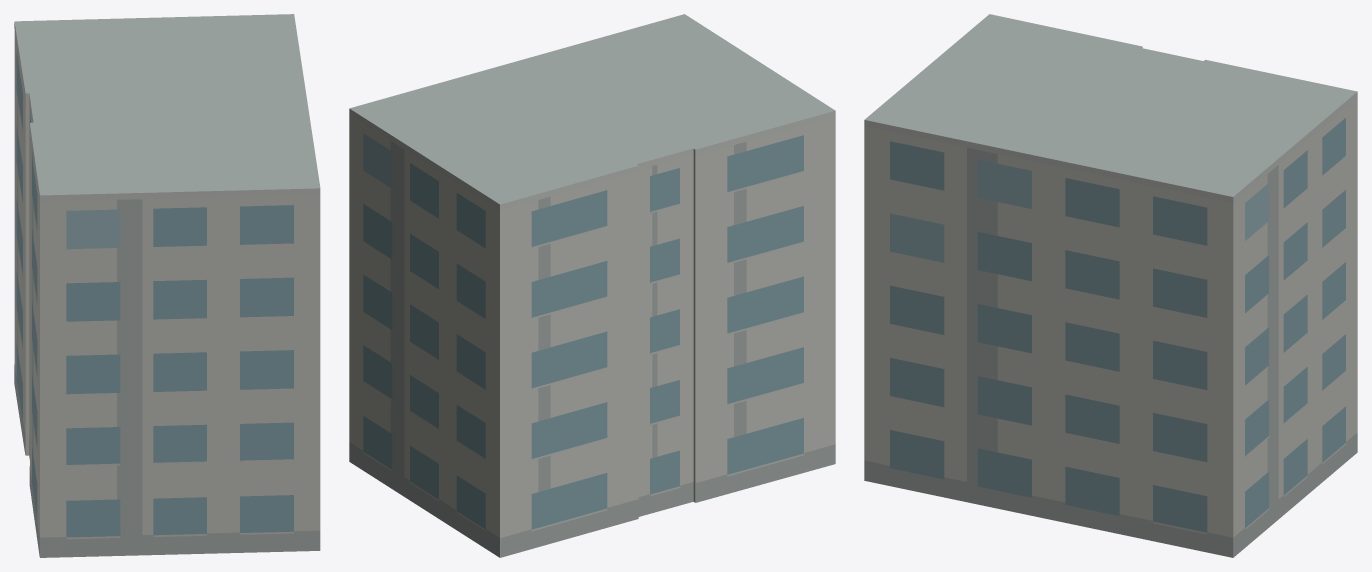
File: survey-upis-32956894.glb
3 renders of one model, left to right at view 1: azimuth 30°, elevation 25°; view 2: azimuth 150°, elevation 25°; view 3: azimuth 270°, elevation 25°, orthographic. The views are drawn at different scales.
Parts seen in each view (by area): view 1: survey-upis-32956894.tmp; view 2: survey-upis-32956894.tmp; view 3: survey-upis-32956894.tmp.
Part boxes in pixels (bbox=[...]): survey-upis-32956894.tmp: bbox=[14, 14, 320, 557]; survey-upis-32956894.tmp: bbox=[349, 14, 835, 557]; survey-upis-32956894.tmp: bbox=[864, 14, 1357, 557].
Bounding box in the file's own units: 15.23 × 14 × 17.35.
